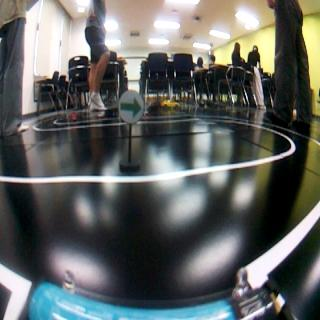right: (116, 90, 144, 124)
